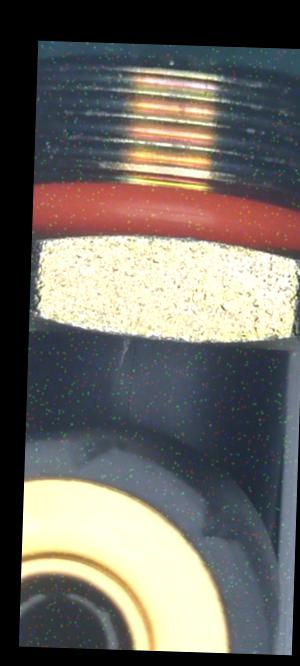bump: (186, 504, 242, 546), (67, 438, 117, 465)
joint line: (116, 380, 140, 433)
white mark: (112, 336, 131, 372)
